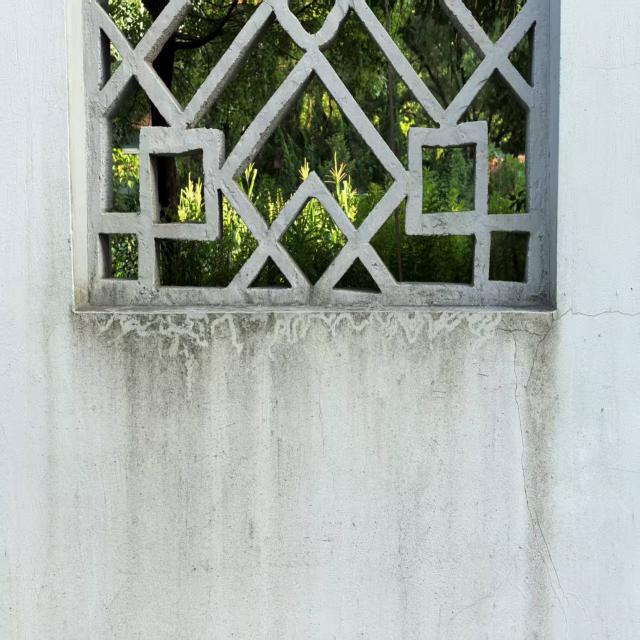crack: (473, 302, 637, 620)
mildew: (35, 270, 560, 635)
